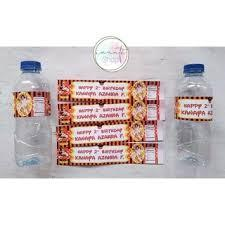BIODEGRADABLE: (159, 58, 220, 176), (2, 56, 55, 173)
